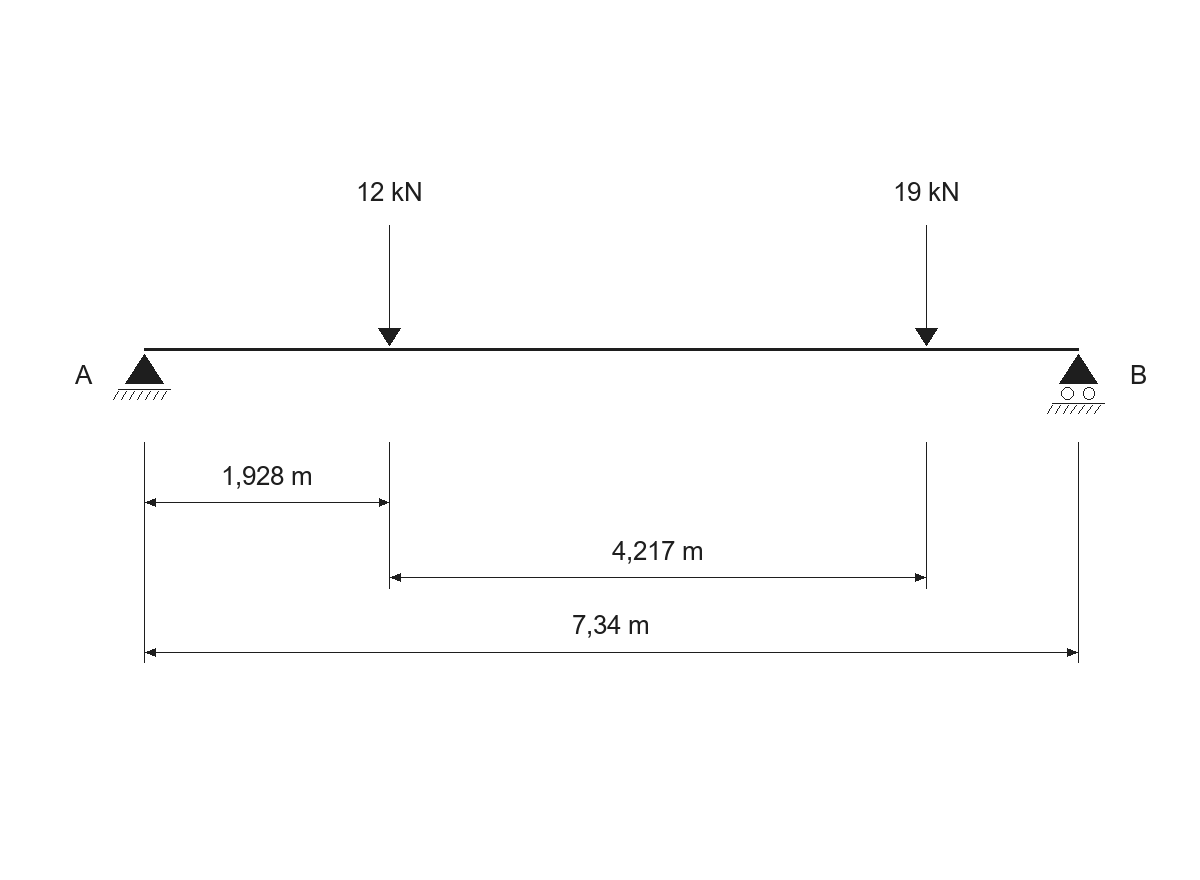pin_support: (113, 354, 171, 400)
point_load: (378, 225, 401, 346), (915, 225, 938, 346)
roller_support: (1047, 354, 1105, 414)
